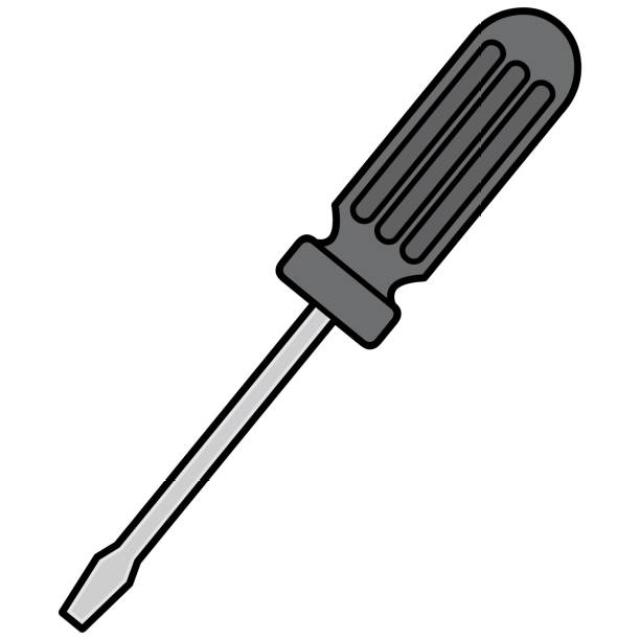screwdriver: (58, 6, 582, 631)
